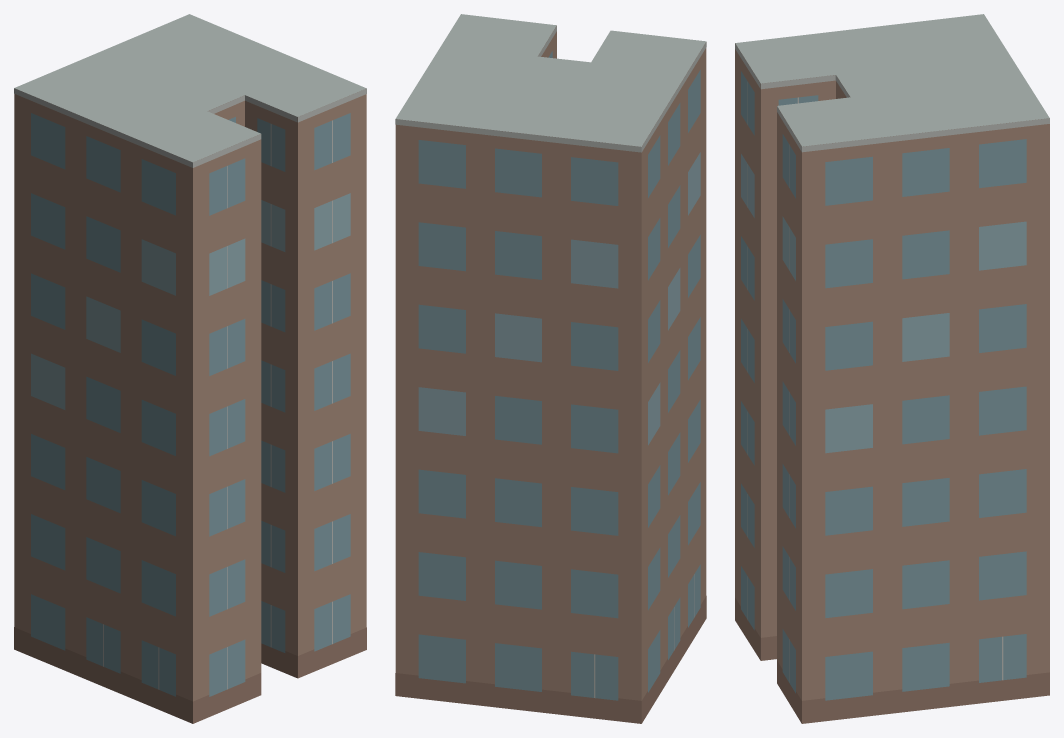
File: survey-upis-32928268.glb
The picture shows the model from 3 angles, left to right: view 1: azimuth 30°, elevation 25°; view 2: azimuth 150°, elevation 25°; view 3: azimuth 270°, elevation 25°; orthographic projection. The views are drawn at different scales.
Parts seen in each view (by area): view 1: survey-upis-32928268.tmp; view 2: survey-upis-32928268.tmp; view 3: survey-upis-32928268.tmp.
Part boxes in pixels (x1,y1,x2,y2): survey-upis-32928268.tmp: (14,14,366,723); survey-upis-32928268.tmp: (395,14,706,723); survey-upis-32928268.tmp: (735,14,1049,723).
Size of the model in its own units: 12.13 by 24.6 by 12.16.
